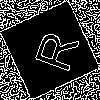R: (25, 25, 80, 75)
